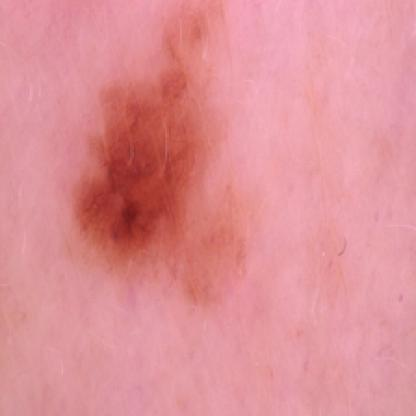benign: (67, 17, 217, 262)
